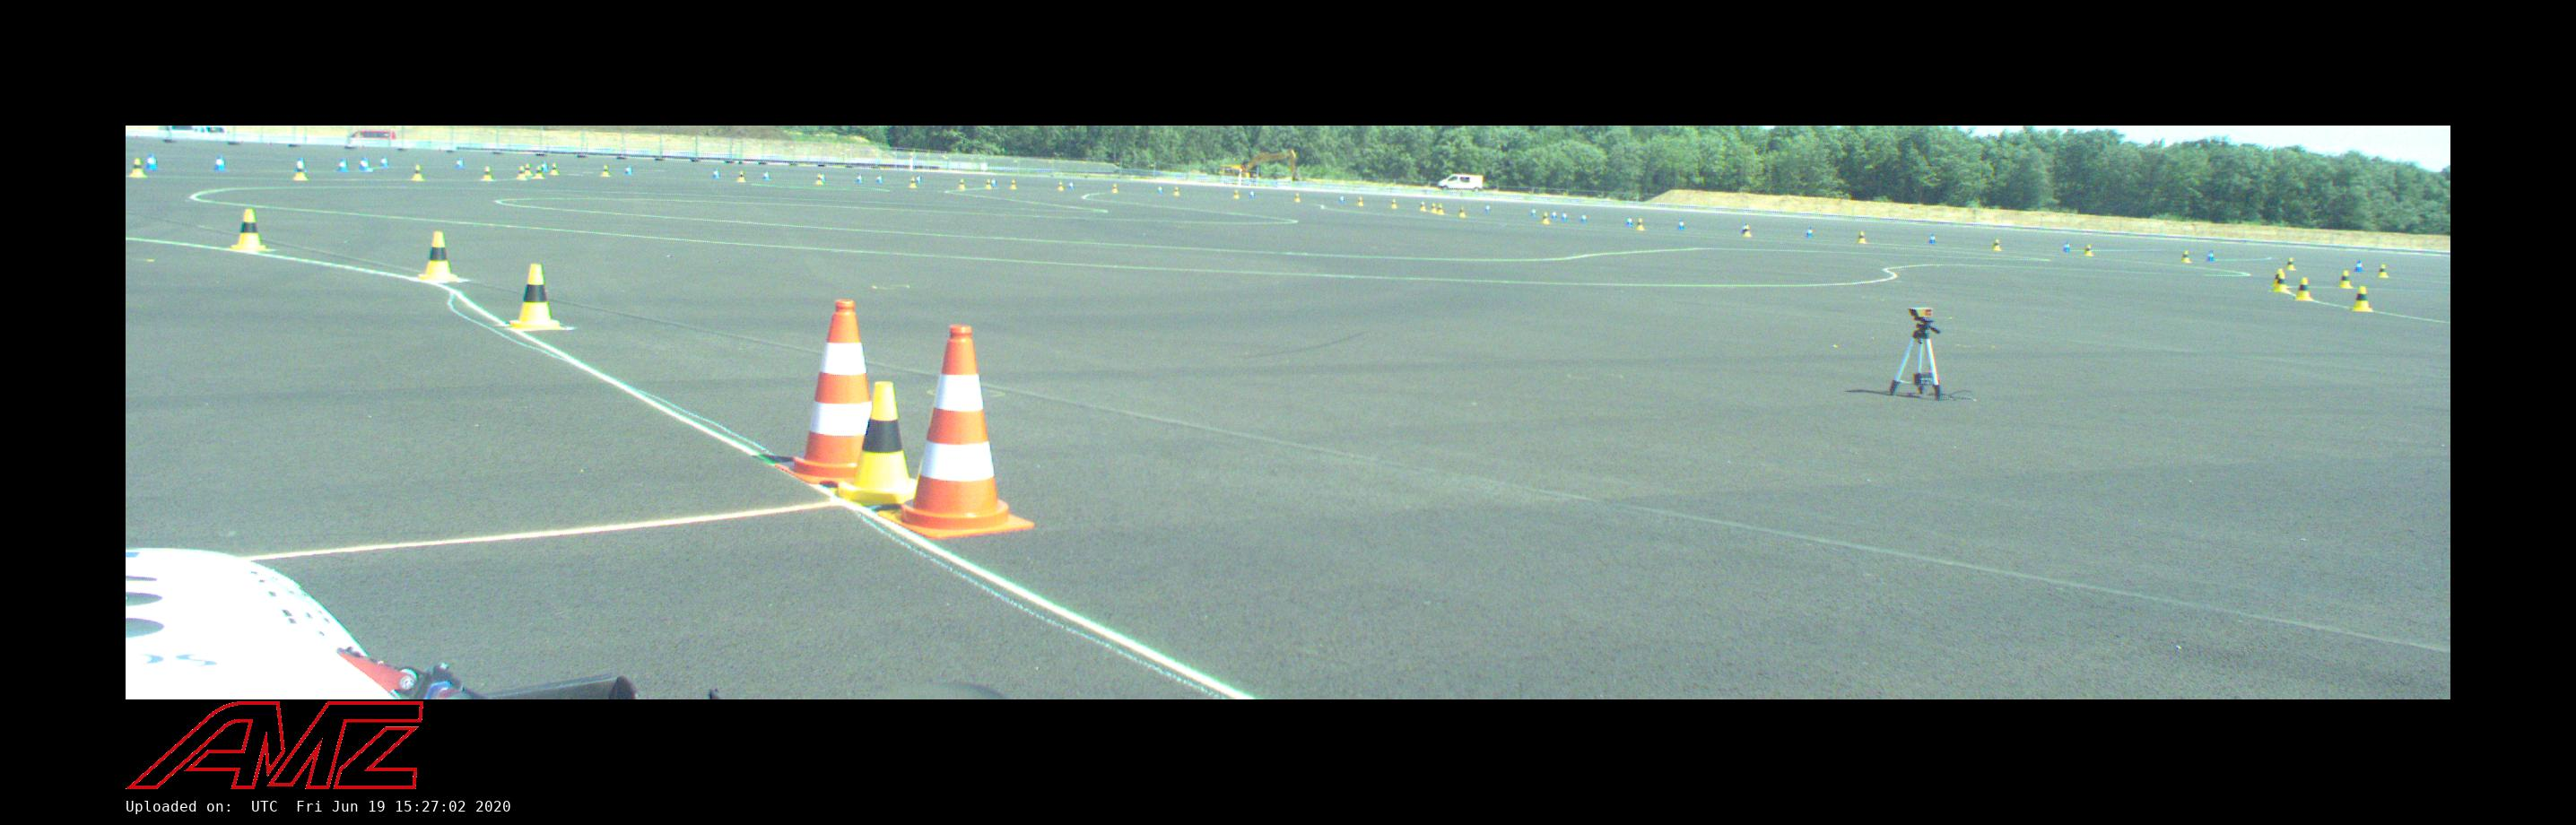blue_cone: (294, 156, 307, 173), (212, 156, 225, 171), (148, 153, 158, 169), (337, 159, 348, 173), (360, 159, 370, 173), (358, 156, 368, 169), (360, 164, 375, 173), (2354, 260, 2362, 273), (2206, 250, 2215, 261), (540, 161, 549, 173), (1927, 233, 1935, 243), (818, 173, 826, 182), (1741, 224, 1750, 233), (457, 158, 463, 169), (380, 156, 386, 168), (2063, 242, 2070, 251), (1580, 212, 1587, 222), (1529, 207, 1536, 217), (713, 169, 720, 179), (626, 164, 632, 174), (1677, 220, 1684, 230), (1626, 217, 1633, 227), (915, 174, 922, 184), (1807, 227, 1812, 238), (856, 174, 862, 182), (991, 179, 997, 187), (1551, 210, 1556, 220), (764, 171, 769, 181), (877, 174, 882, 184), (1485, 204, 1490, 212), (1562, 212, 1567, 220), (1250, 191, 1255, 199), (1158, 186, 1163, 192), (1069, 182, 1074, 189), (1341, 196, 1344, 204)
large_orange_cone: (879, 327, 1037, 537), (775, 299, 871, 483)
yellow_cone: (836, 381, 917, 501), (509, 263, 560, 330), (419, 232, 457, 283), (230, 209, 266, 251), (2351, 286, 2372, 311), (2295, 278, 2312, 301), (2272, 273, 2290, 293), (128, 159, 148, 177), (2270, 268, 2287, 288), (2338, 271, 2353, 288), (411, 164, 425, 181), (294, 164, 307, 181), (481, 166, 493, 181), (2377, 265, 2389, 278), (2180, 251, 2192, 263), (516, 166, 526, 179), (1993, 238, 2003, 251), (534, 166, 544, 179), (2285, 258, 2295, 270), (2083, 245, 2093, 256), (601, 164, 611, 176), (550, 163, 560, 174), (1539, 212, 1549, 224), (522, 164, 532, 176), (1858, 230, 1866, 243), (1743, 225, 1751, 237), (738, 171, 746, 182), (909, 177, 917, 189), (1429, 202, 1438, 214), (1636, 219, 1644, 230), (1390, 199, 1398, 209), (815, 174, 823, 184), (1419, 202, 1428, 210), (1459, 207, 1465, 217), (1058, 181, 1065, 191), (1173, 186, 1180, 196), (1438, 204, 1444, 214), (986, 179, 992, 189), (1010, 181, 1017, 189), (1234, 191, 1240, 199), (1295, 194, 1301, 202), (1359, 197, 1364, 207), (959, 179, 964, 189), (1112, 184, 1117, 192)
